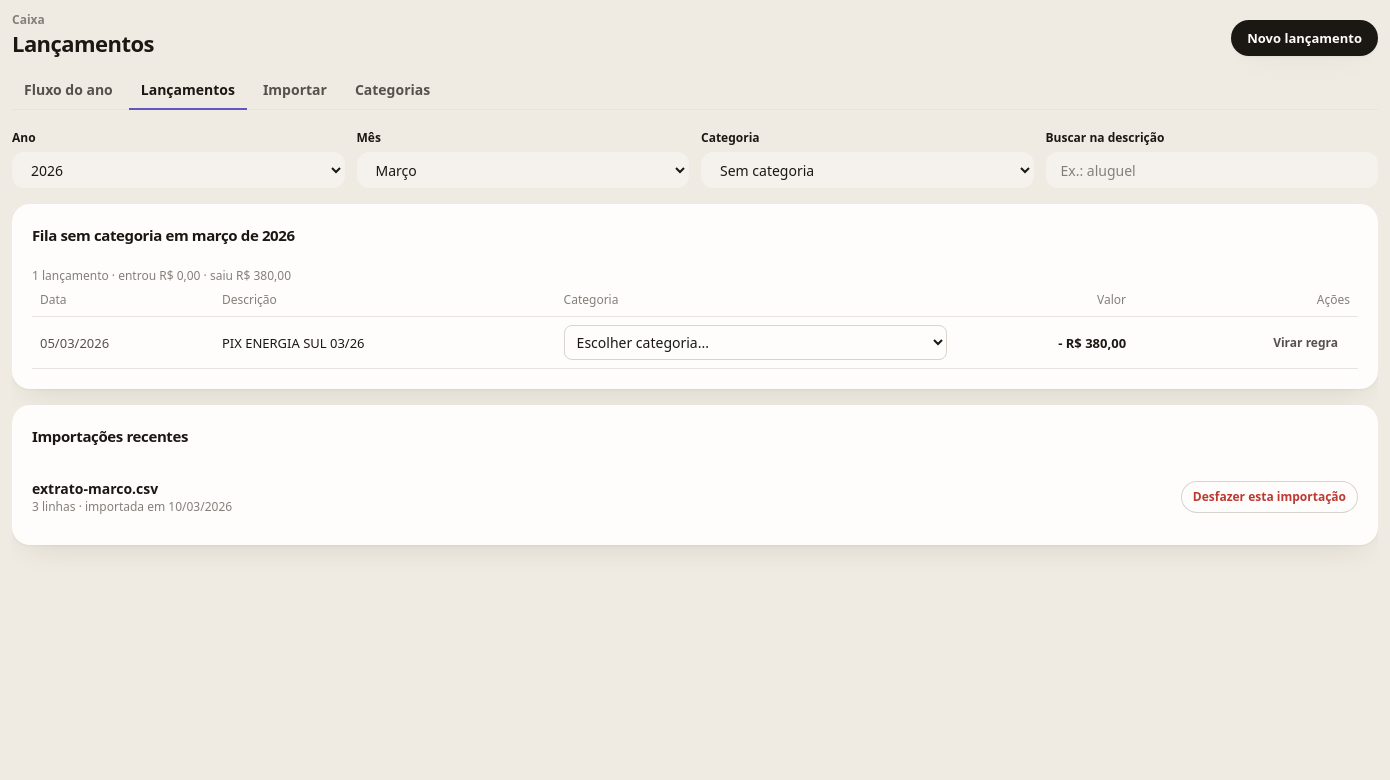
Test: virar regra abre a descrição para editar e cria a regra
Click the button "Virar regra".
click(1306, 343)  # box [1261,327,1350,359]
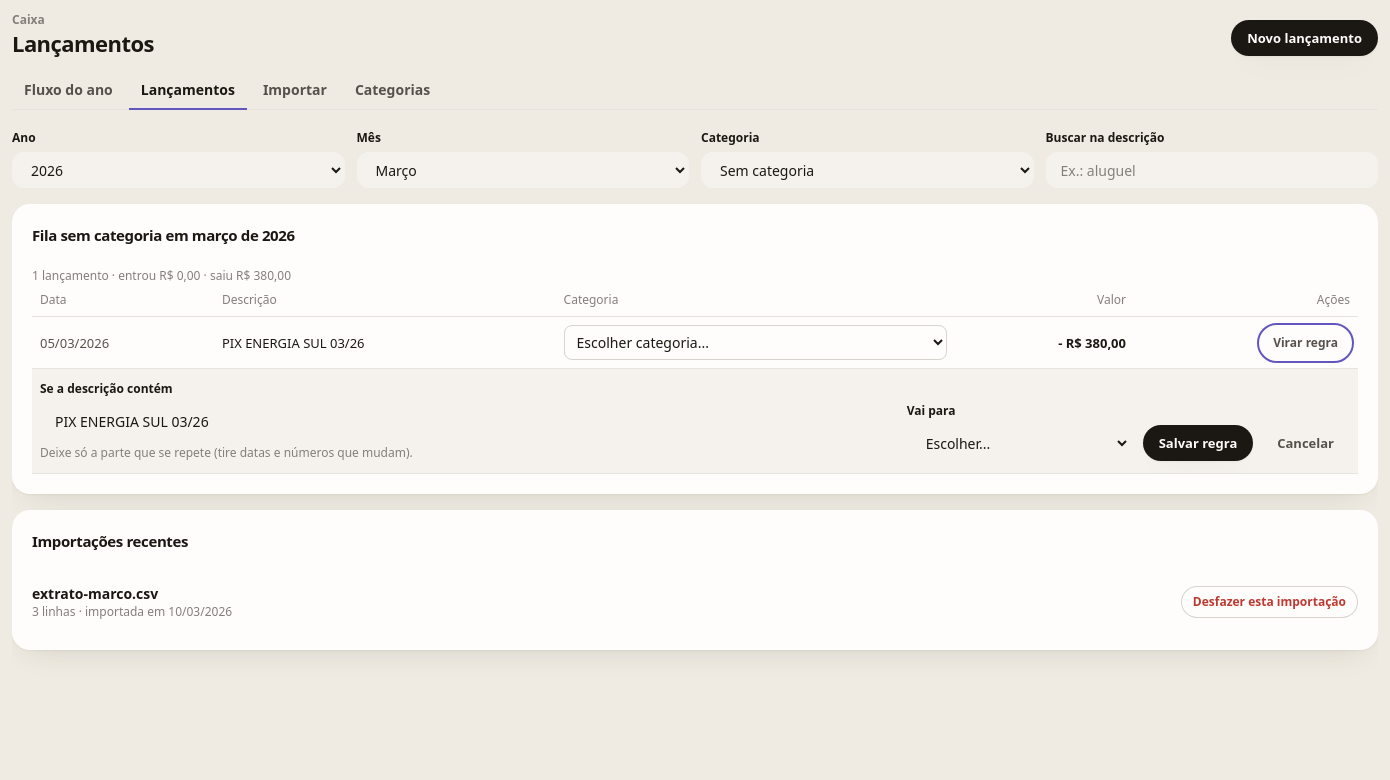
Expected: the field labelled "Se a descrição contém" holds "PIX ENERGIA SUL 03/26"
Replace the text in the field labelled "Se a descrição contém" with "energia sul" at (467, 421), box [40,403,895,439]
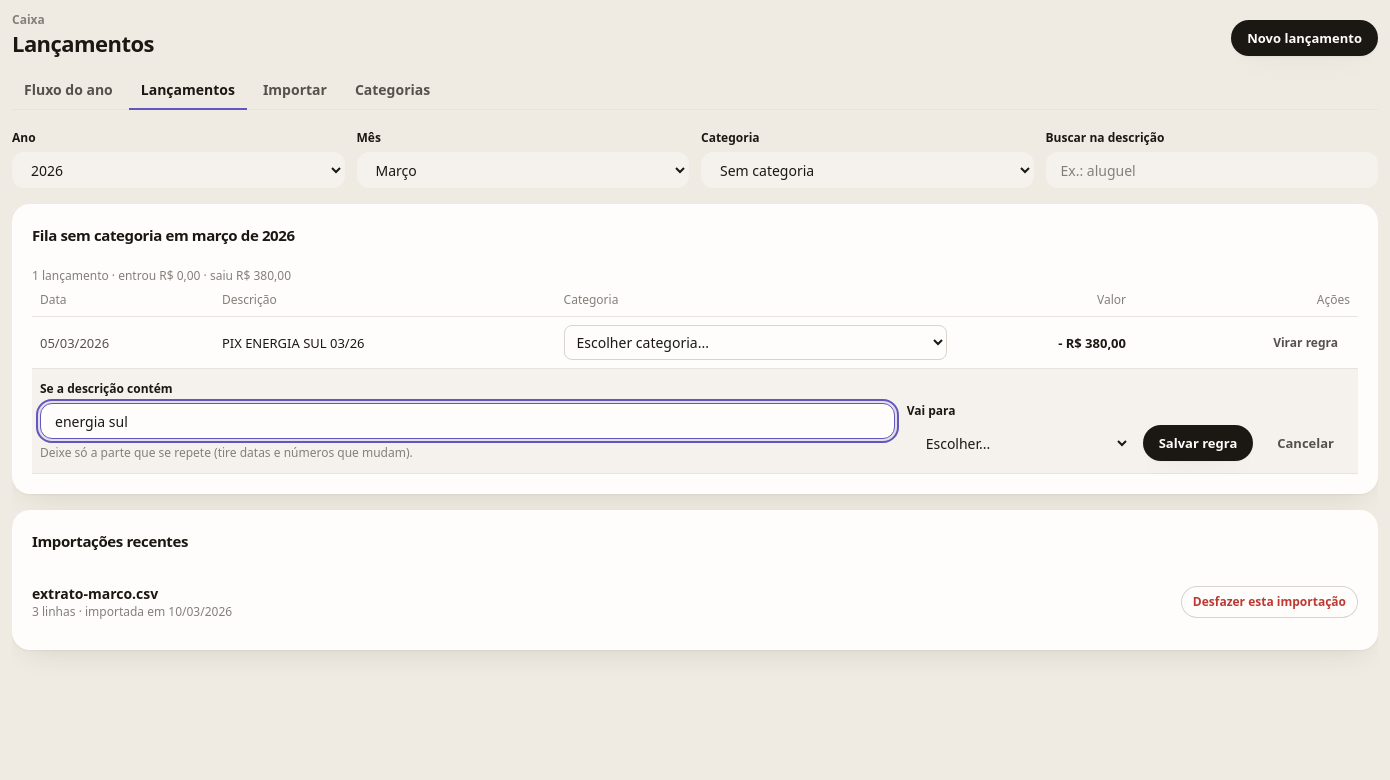
Select "Aluguel" in the dropdown labelled "Vai para" at (1019, 443), box [907,425,1131,461]
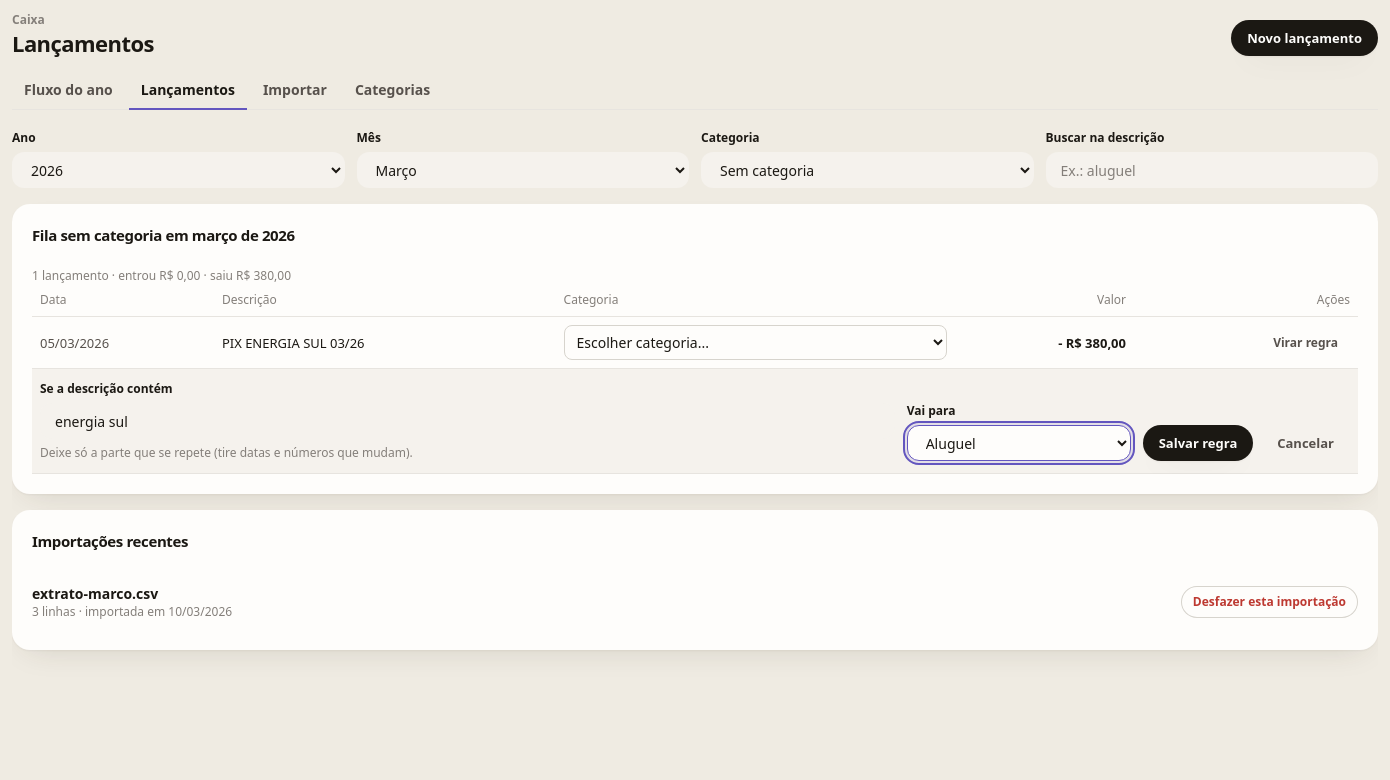
Click the button "Salvar regra".
click(1198, 443)  # box [1143,425,1253,461]
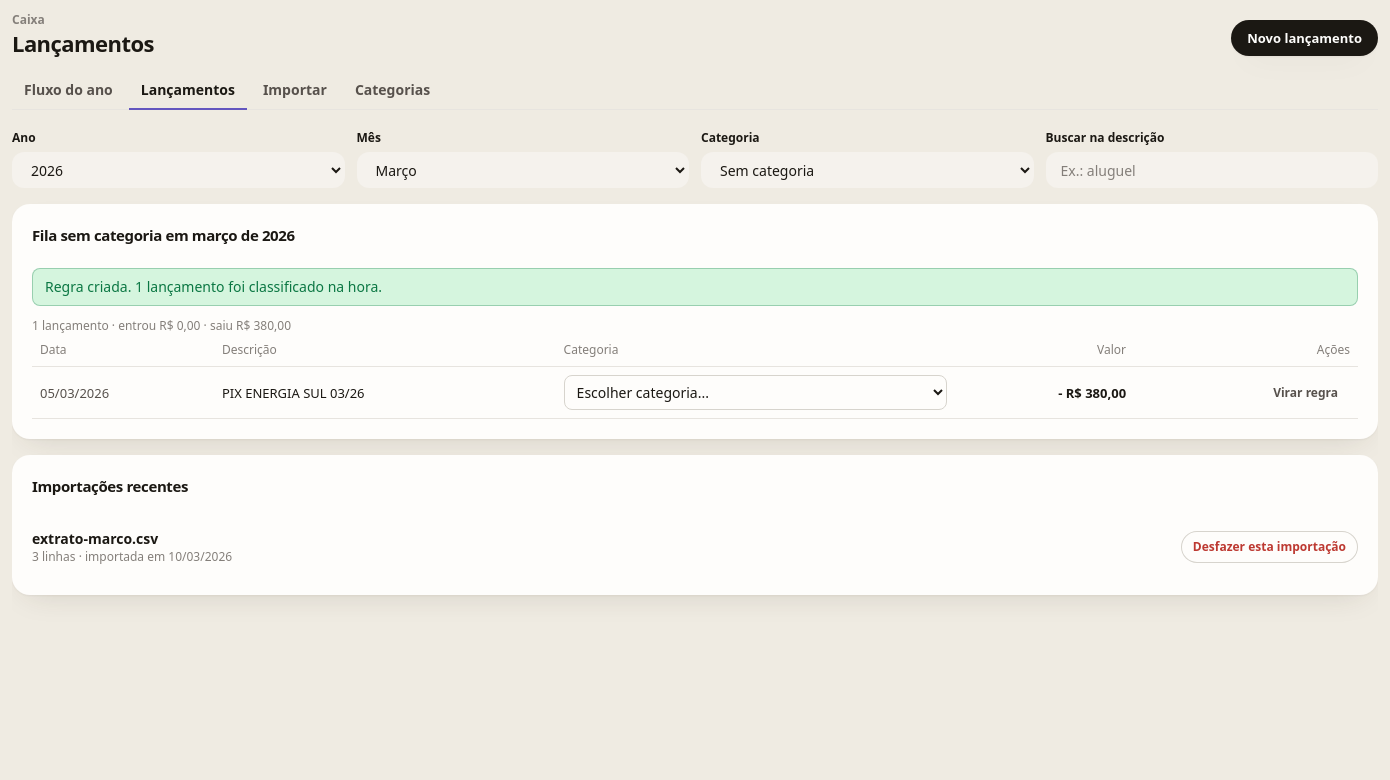
Expected: the text "Regra criada. 1 lançamento foi classificado na hora." is shown, [32,268,1358,306]
